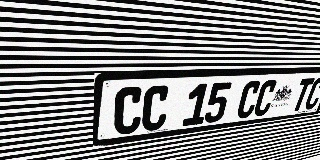1: (182, 83, 212, 126)
5: (203, 82, 232, 124)
C: (113, 86, 144, 136), (140, 85, 171, 132), (235, 81, 262, 119), (252, 80, 279, 117), (303, 77, 320, 110)
T: (290, 78, 315, 112)
